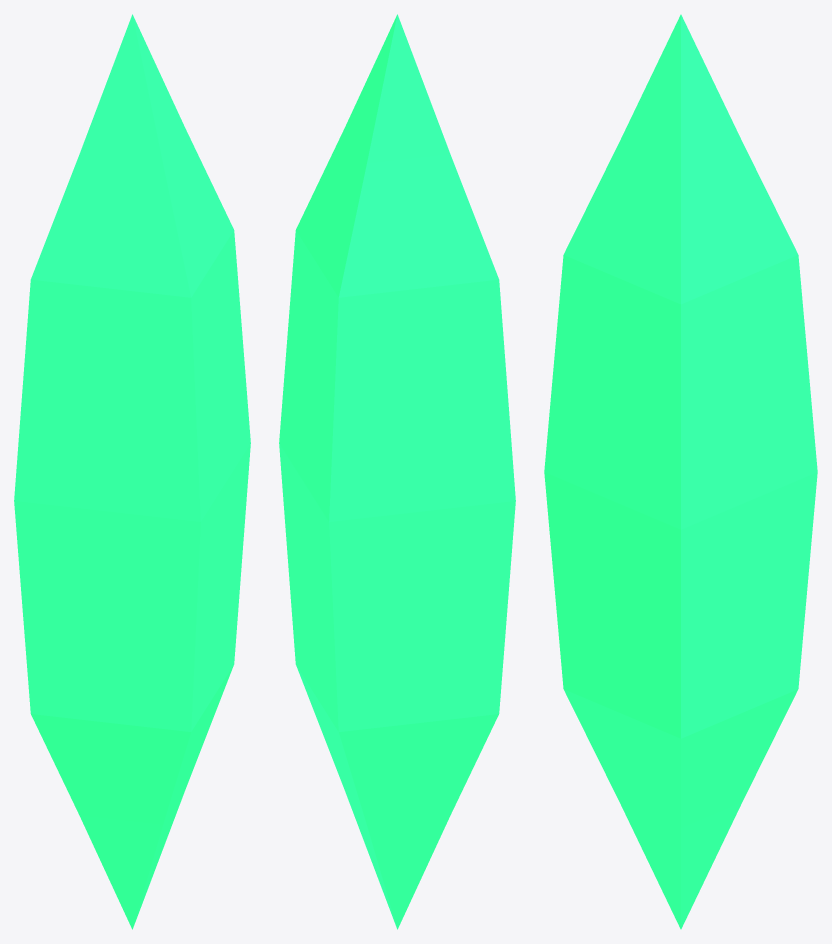
The model's file is Project02_Asset_Green_Crystal.fbx.
3 renders of one model, left to right at view 1: azimuth 30°, elevation 25°; view 2: azimuth 150°, elevation 25°; view 3: azimuth 270°, elevation 25°, orthographic.
Parts seen in each view (by area): view 1: Crystal 3; view 2: Crystal 3; view 3: Crystal 3.
Part boxes in pixels (left/top/right/bottom): Crystal 3: left=14, top=14, right=250, bottom=929; Crystal 3: left=279, top=14, right=515, bottom=929; Crystal 3: left=544, top=14, right=817, bottom=929.
Size of the model in its own units: 14.96 by 55.28 by 14.96.
